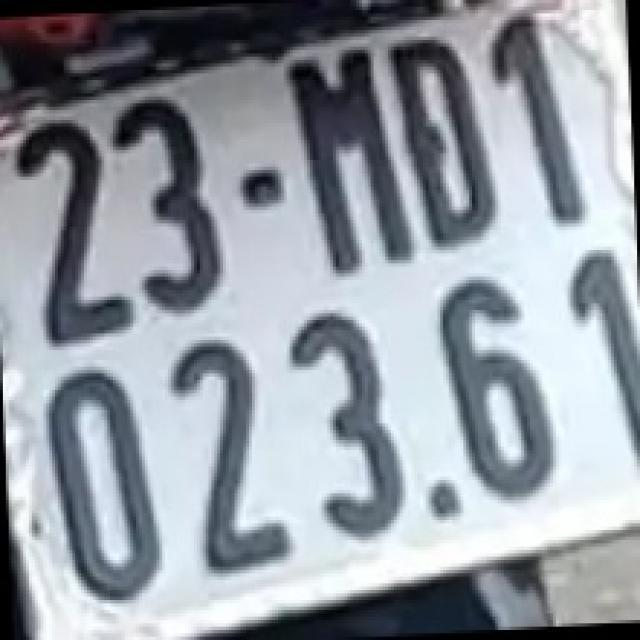0: (44, 364, 165, 604)
2: (174, 330, 296, 576), (17, 114, 136, 344)
3: (286, 306, 408, 540), (116, 93, 226, 317)
6: (437, 274, 559, 504)
7: (492, 17, 591, 230), (564, 250, 640, 486)
D: (396, 33, 498, 250)
M: (286, 45, 412, 268)
